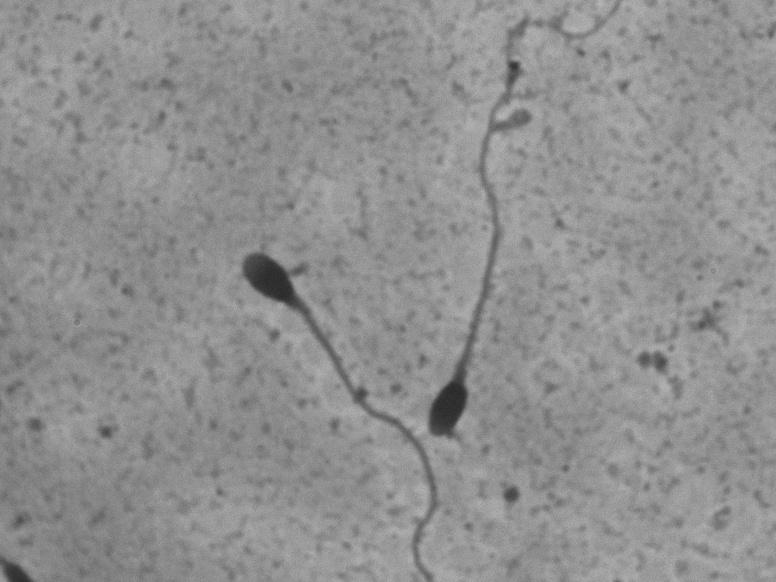Normal: (420, 3, 624, 453), (233, 232, 452, 578)
